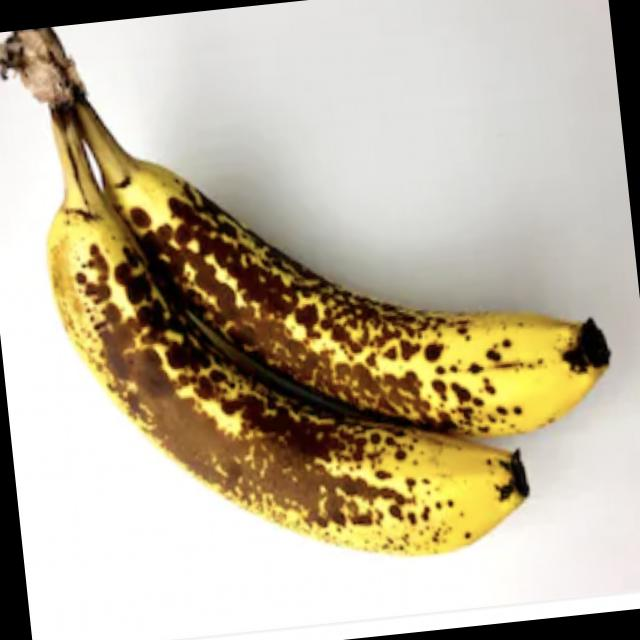rotten-banana: (18, 162, 544, 578), (80, 78, 607, 436)
